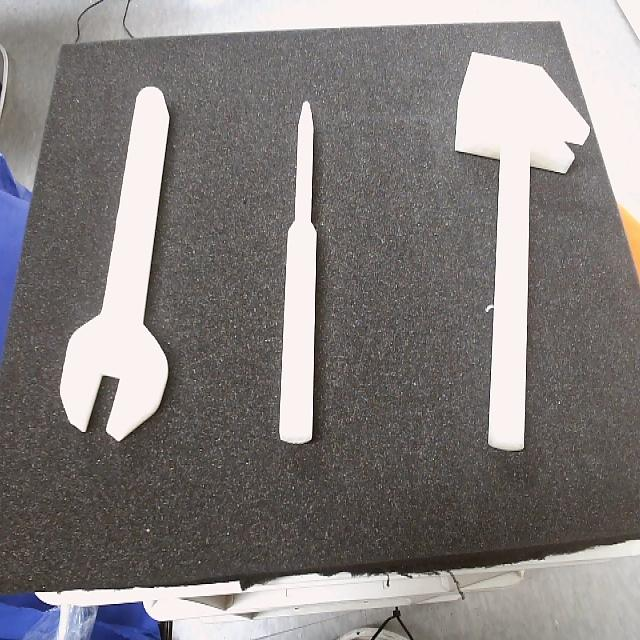Driver: (278, 103, 320, 447)
Hammer: (455, 53, 589, 455)
Spanner: (59, 87, 170, 444)
